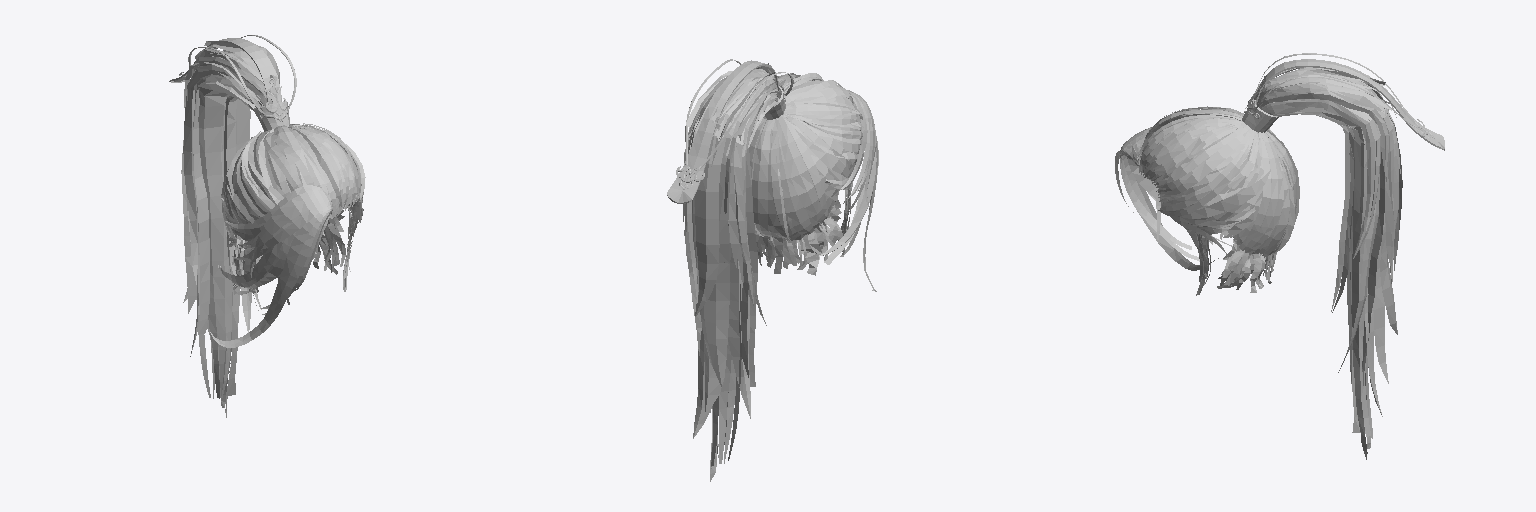
The picture shows the model from 3 angles: view 1: azimuth 30°, elevation 25°; view 2: azimuth 150°, elevation 25°; view 3: azimuth 270°, elevation 25°; orthographic projection.
Parts seen in each view (by area): view 1: Mesh_0048_ncl1_4 group1, group1 Mesh_0105, group1 Mesh_0078_ncl1_4; view 2: group1 Mesh_0105, Mesh_0048_ncl1_4 group1, group1 Mesh_0078_ncl1_4; view 3: Mesh_0048_ncl1_4 group1, group1 Mesh_0105, group1 Mesh_0078_ncl1_4.
Part boxes in pixels (x1,y1,x2,y2): Mesh_0048_ncl1_4 group1: (210,123,365,347); group1 Mesh_0105: (181,41,279,417); group1 Mesh_0078_ncl1_4: (169,35,296,130); group1 Mesh_0105: (683,63,778,481); Mesh_0048_ncl1_4 group1: (749,73,878,291); group1 Mesh_0078_ncl1_4: (667,59,793,203); Mesh_0048_ncl1_4 group1: (1115,106,1299,295); group1 Mesh_0105: (1254,67,1402,459); group1 Mesh_0078_ncl1_4: (1242,53,1444,150).
Bounding box in the file's own units: 45.64 × 115 × 87.